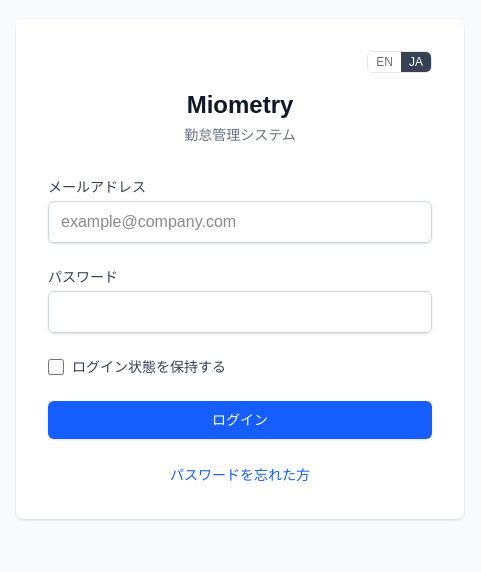
Test: Login page › shows error when fields missing
Click the button "ログイン" at (240, 420), box [48,401,432,439]
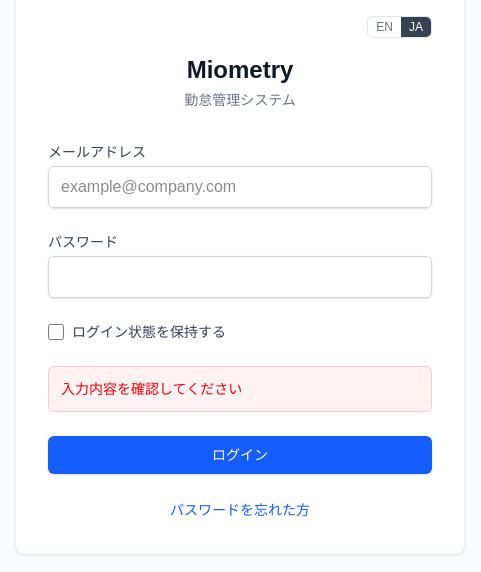
Expected: the message reads "入力内容を確認してください", [61,381,242,397]
